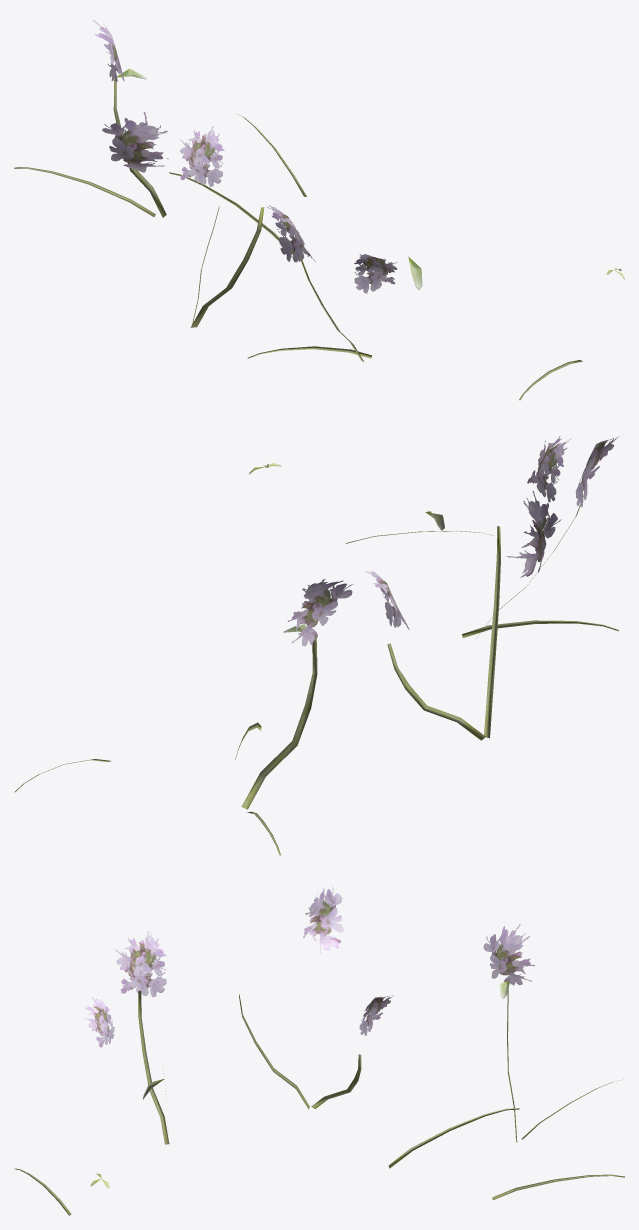
The model's file is flower_pink_lod2.glb.
The picture shows the model from 3 angles, top to bottom: view 1: azimuth 30°, elevation 25°; view 2: azimuth 150°, elevation 25°; view 3: azimuth 270°, elevation 25°; orthographic projection. The views are drawn at different scales.
Visible parts, largest first — view 1: bq_Flower_Thymus-serpyllum_C_summer; view 2: bq_Flower_Thymus-serpyllum_C_summer; view 3: bq_Flower_Thymus-serpyllum_C_summer.
Part boxes in pixels (x1,y1,x2,y2): bq_Flower_Thymus-serpyllum_C_summer: (14,20,624,400); bq_Flower_Thymus-serpyllum_C_summer: (14,436,618,855); bq_Flower_Thymus-serpyllum_C_summer: (14,886,624,1215).
Size of the model in its own units: 0.1709 by 0.0939 by 0.2591.
Materials: 2 (2 with a texture image).
